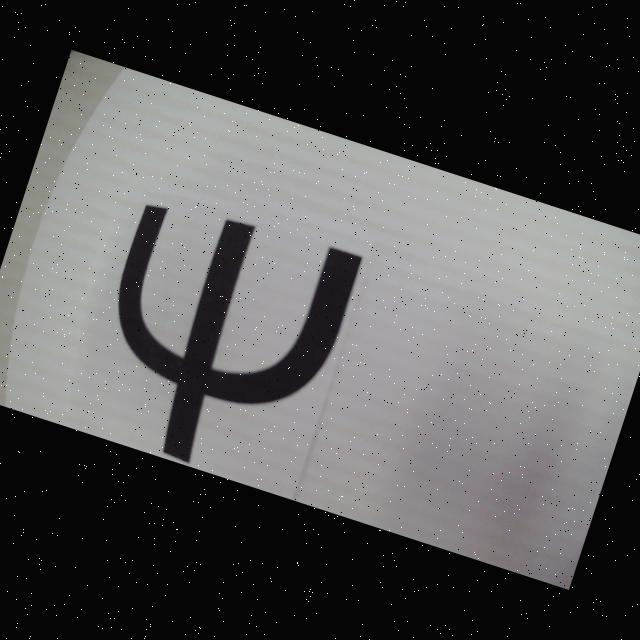PSI: (73, 186, 364, 494)
